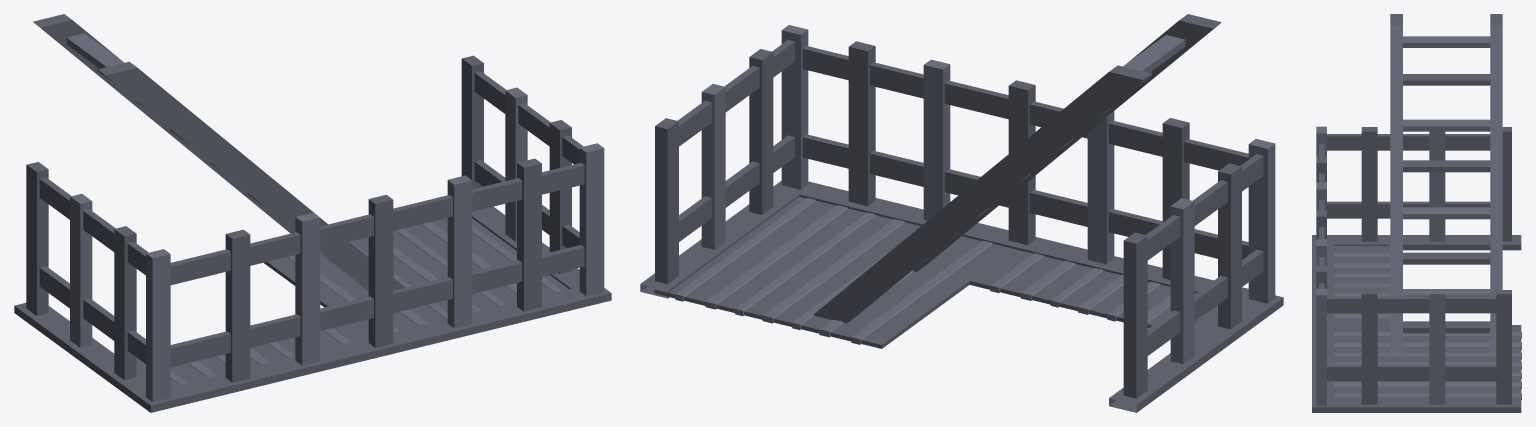
File: SM_House_Stairs_2A.fbx
3 renders of one model, left to right at view 1: azimuth 30°, elevation 25°; view 2: azimuth 150°, elevation 25°; view 3: azimuth 270°, elevation 25°, orthographic. The views are drawn at different scales.
Visible parts, largest first — view 1: SM_House_Stairs_2A_LOD0; view 2: SM_House_Stairs_2A_LOD0; view 3: SM_House_Stairs_2A_LOD0.
Boxes of the visible parts, x1,y1,x2,y2 form: SM_House_Stairs_2A_LOD0: (14, 14, 611, 412); SM_House_Stairs_2A_LOD0: (640, 14, 1283, 412); SM_House_Stairs_2A_LOD0: (1312, 14, 1521, 412).
Bounding box in the file's own units: 327 × 168 × 203.
Materials: 1 (1 with a texture image).
